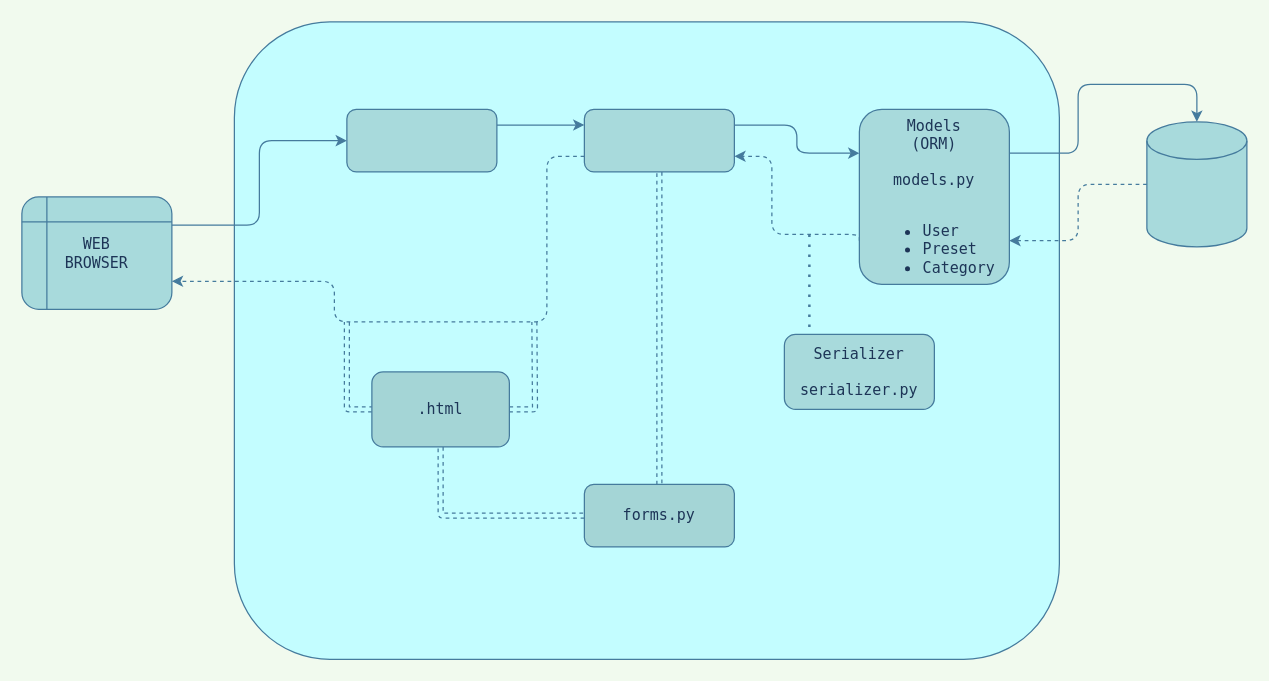
This 1269x681 diagram has some shape labels left out. Each missing label, with the centre of its shape:
"PostgreSQL DB" goes at point 1196,184.
"URLs config urls.py" goes at point 421,140.
"Views (Control) view.py" goes at point 658,140.
